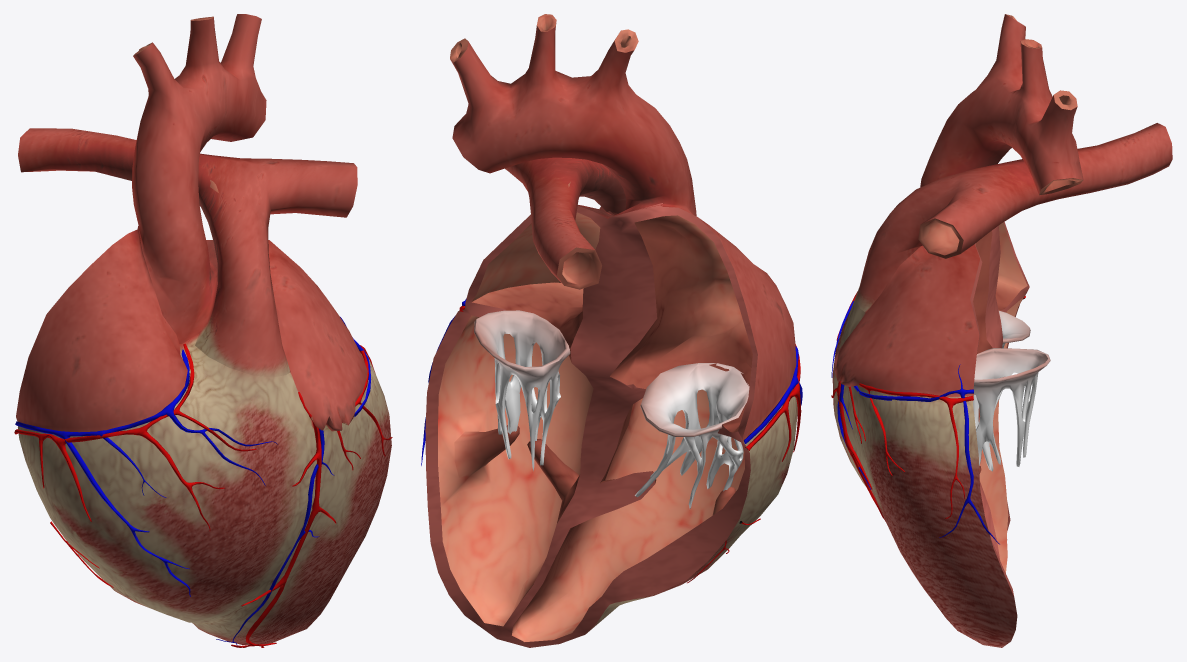
The model's file is AR_Heart_cutOutFront_Geo.fbx.
The picture shows the model from 3 angles, left to right: view 1: azimuth 30°, elevation 25°; view 2: azimuth 150°, elevation 25°; view 3: azimuth 270°, elevation 25°; orthographic projection. The views are drawn at different scales.
Visible parts, largest first — view 1: Heart_cutout_front; view 2: Heart_cutout_front, heart_wall; view 3: Heart_cutout_front, heart_wall.
Part boxes in pixels (x1,y1,x2,y2): Heart_cutout_front: (14, 14, 392, 647); Heart_cutout_front: (421, 14, 802, 641); heart_wall: (425, 203, 757, 647); Heart_cutout_front: (831, 14, 1172, 647); heart_wall: (970, 222, 1029, 596).
Size of the model in its own units: 860 by 1492 by 794.
